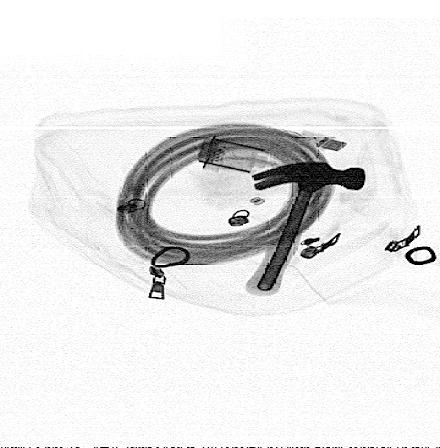Hammer: (244, 161, 367, 298)
